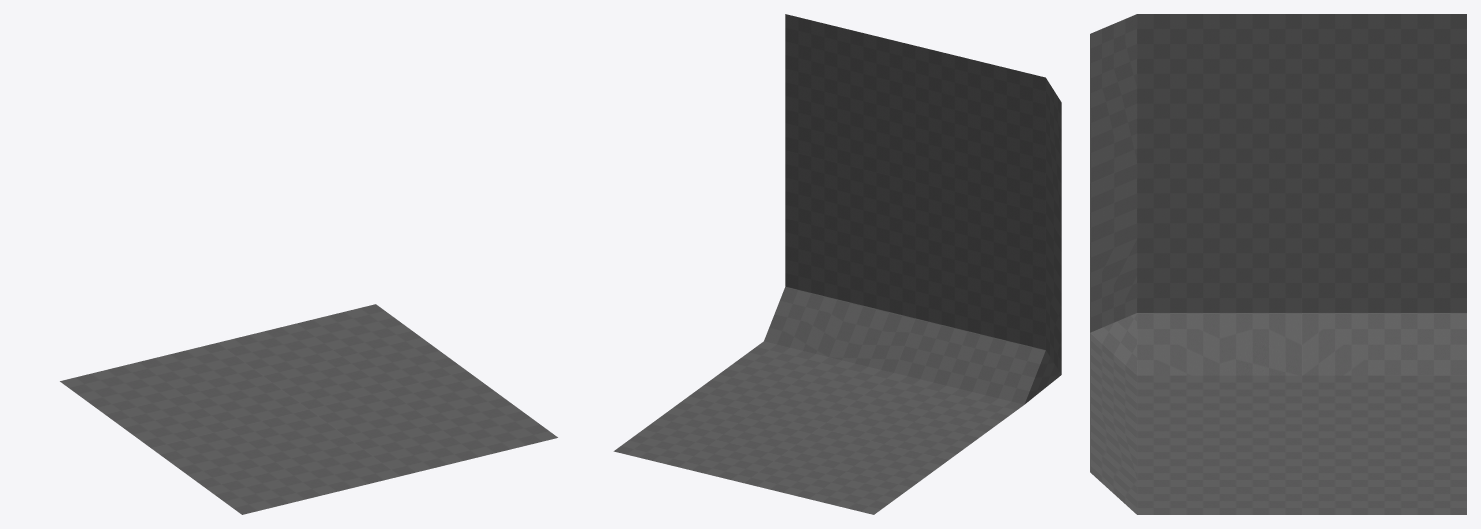
The picture shows the model from 3 angles, left to right: view 1: azimuth 30°, elevation 25°; view 2: azimuth 150°, elevation 25°; view 3: azimuth 270°, elevation 25°; orthographic projection. The views are drawn at different scales.
Visible parts, largest first — view 1: 0; view 2: 0; view 3: 0.
Boxes of the visible parts, x1,y1,x2,y2 form: 0: [60, 304, 557, 514]; 0: [613, 14, 1061, 514]; 0: [1090, 14, 1466, 514].
Bounding box in the file's own units: 2 × 2 × 2.
Materials: 1 (1 with a texture image).
